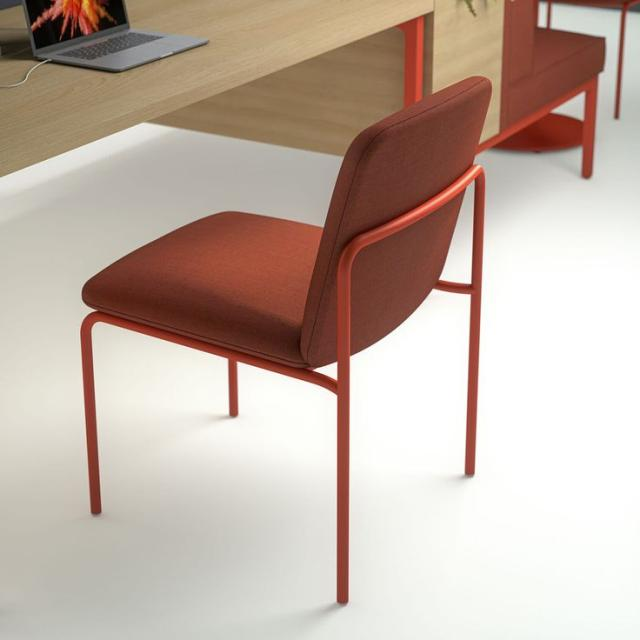obstacle: (79, 74, 492, 604), (0, 0, 435, 177)
